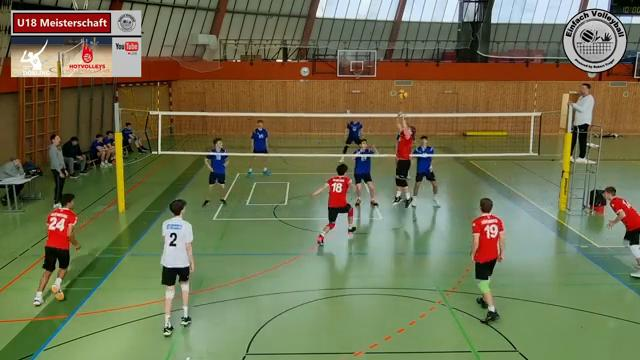alzata: (388, 109, 416, 210)
